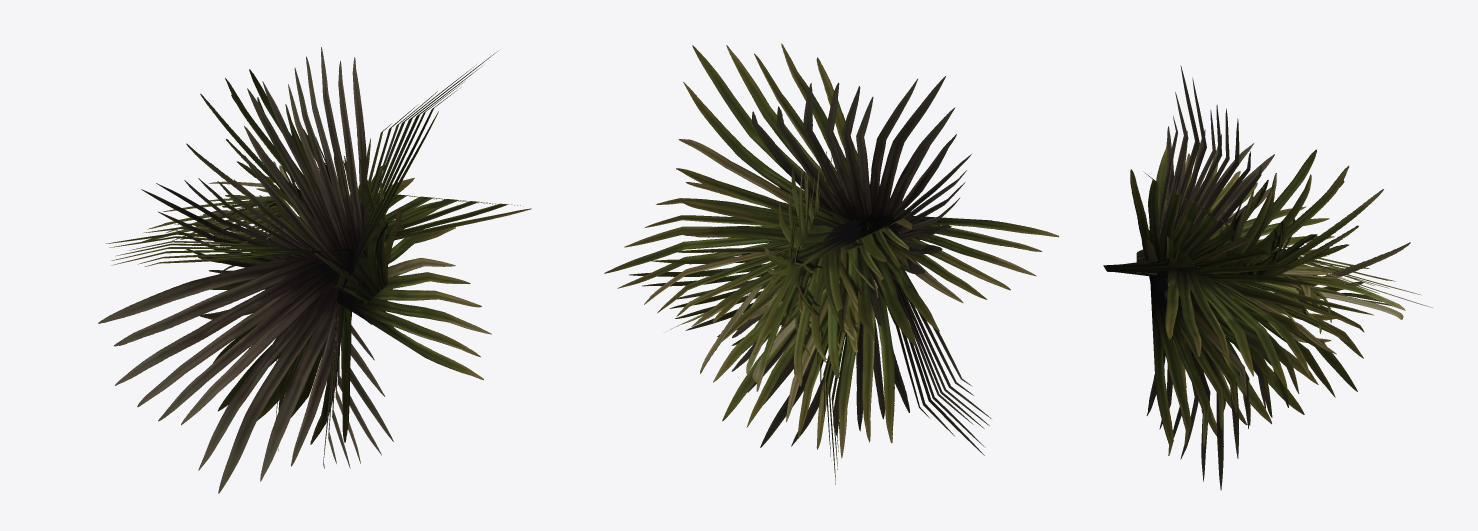
Rendered from MEP_Pandani_DP_01.fbx.
The picture shows the model from 3 angles, left to right: view 1: azimuth 30°, elevation 25°; view 2: azimuth 150°, elevation 25°; view 3: azimuth 270°, elevation 25°; orthographic projection. The views are drawn at different scales.
Visible parts, largest first — view 1: MEP_Pandani_DP_01; view 2: MEP_Pandani_DP_01; view 3: MEP_Pandani_DP_01.
Part boxes in pixels (x1,y1,x2,y2): MEP_Pandani_DP_01: (98,47,531,493); MEP_Pandani_DP_01: (604,43,1059,484); MEP_Pandani_DP_01: (1103,65,1432,490).
Size of the model in its own units: 2.67 by 2.63 by 2.04.
